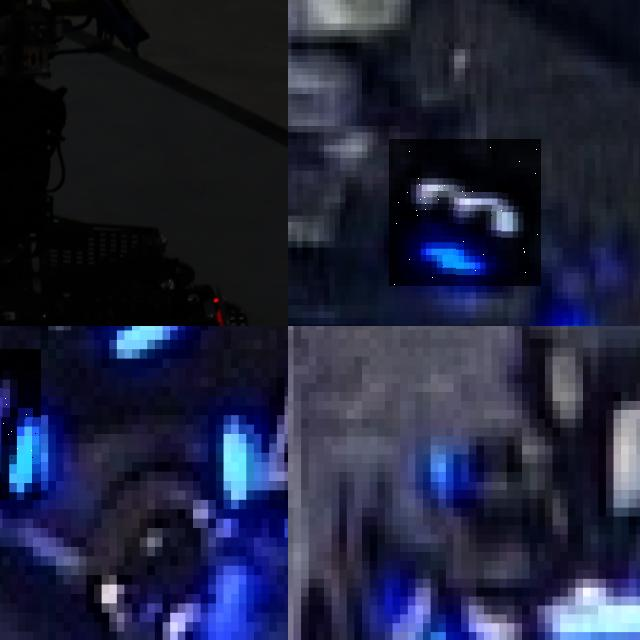B3: (389, 139, 541, 286)
B4: (208, 368, 288, 509), (0, 349, 40, 499), (377, 569, 453, 640)
